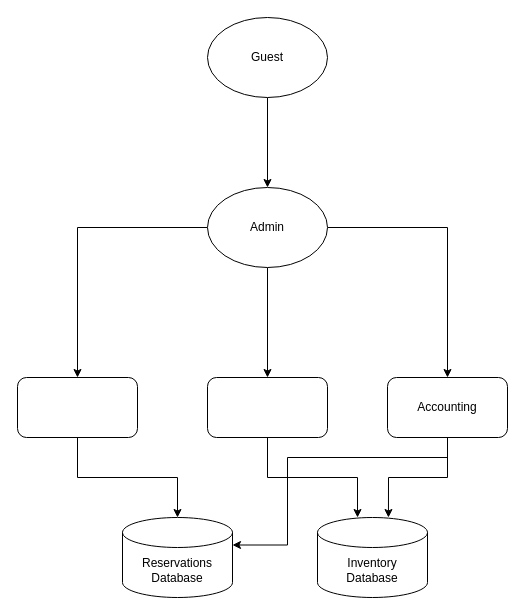
The diagram is 525 pixels wide and 615 high, and some of its shapes have lost their labels. The shapes that lost their labels are listed below. From the top down, each one's centre as x and y in pixels, then its label:
At point 77,407: "Reservations".
At point 267,407: "Inventory Module".
